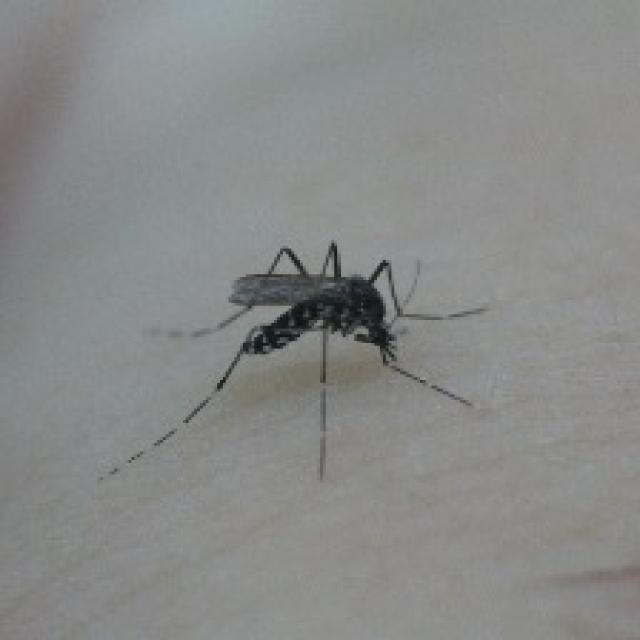aedes: (97, 234, 492, 483)
